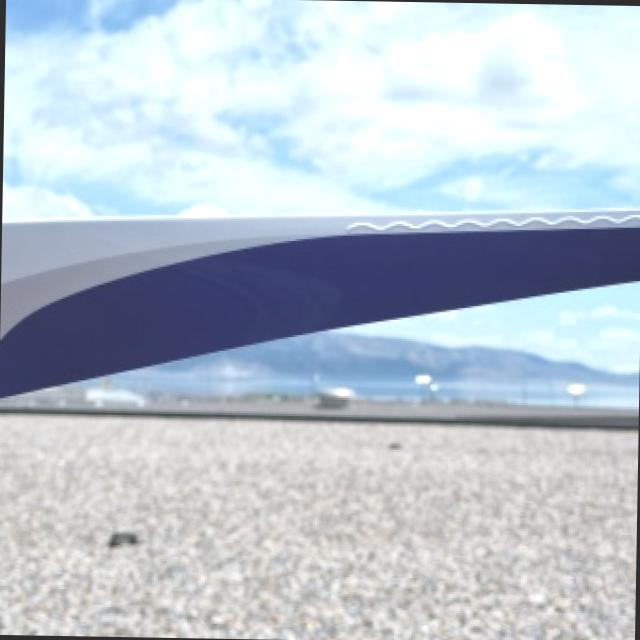healthy: (1, 207, 640, 396)
